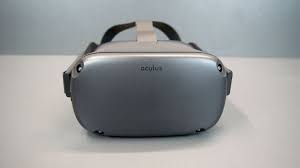oculus: (62, 30, 235, 140)
